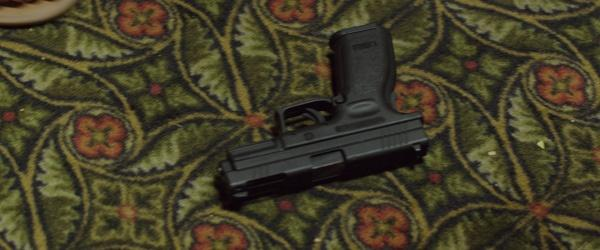Gun: (215, 23, 429, 210)
